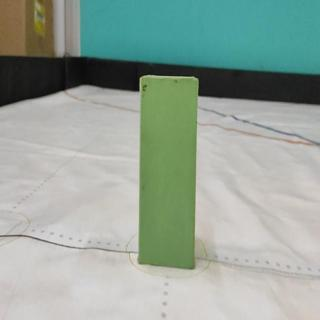greenbox: (139, 76, 197, 270)
